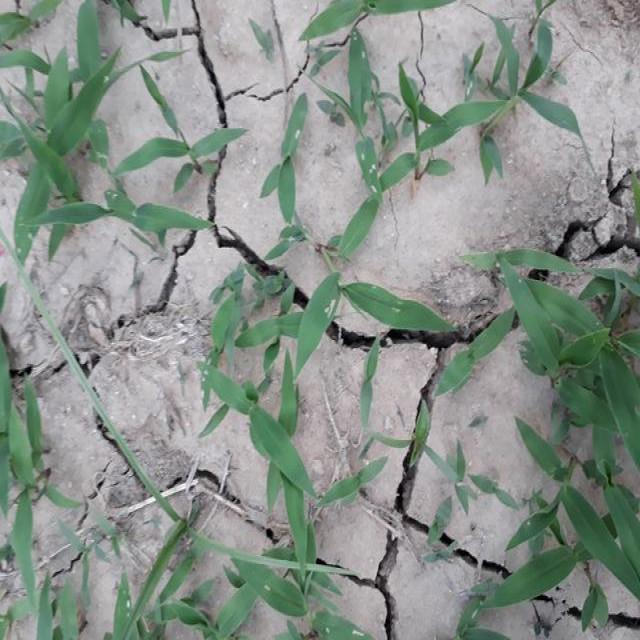weed: (208, 123, 361, 640), (467, 247, 640, 640), (0, 0, 178, 264)
